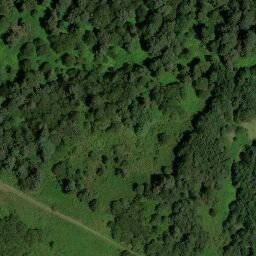forest: (1, 81, 88, 132), (86, 72, 152, 131), (204, 1, 256, 53), (137, 1, 190, 51), (173, 144, 224, 190), (215, 68, 256, 122), (230, 161, 256, 223), (70, 1, 128, 27), (110, 205, 151, 241), (150, 83, 186, 117), (191, 113, 224, 145), (13, 157, 40, 191), (1, 131, 24, 169), (48, 33, 90, 53)
